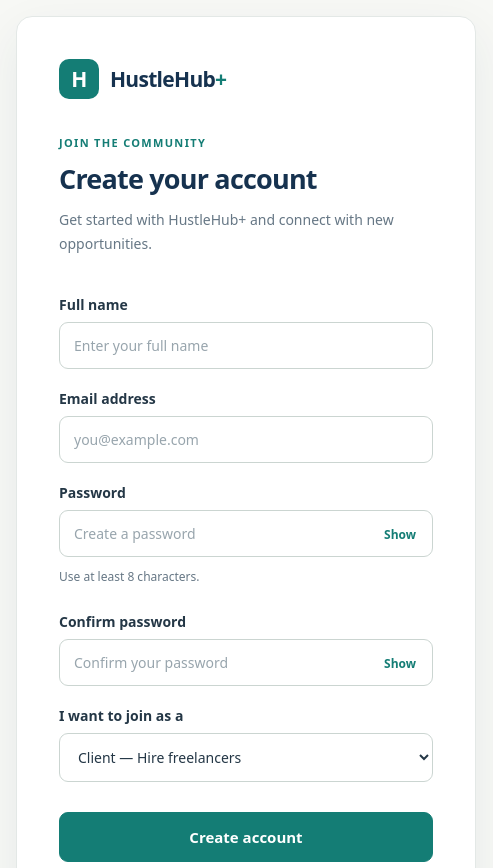
Scenario: RegisterPage › shows the message from the server when registration fails
Type "  Freya Alpha " into the field labelled "Full name" at (246, 346), box [59, 322, 433, 369]
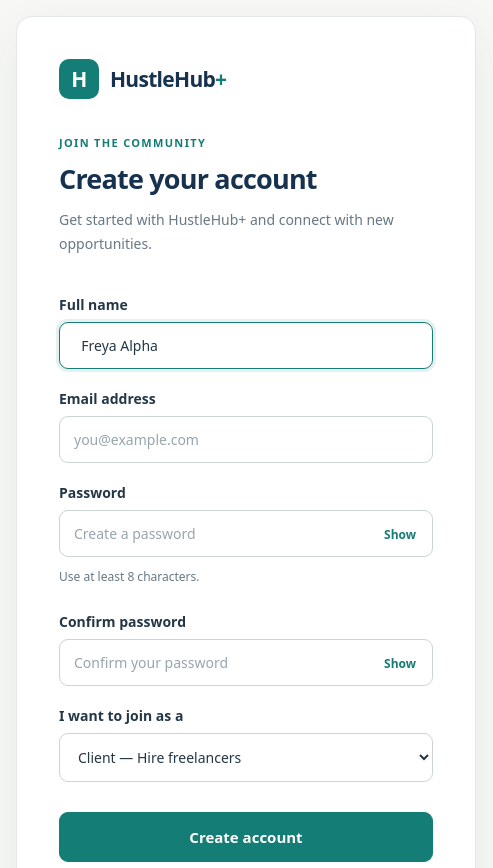
Type "freya@example.com" into the field labelled "Email address" at (246, 440), box [59, 416, 433, 463]
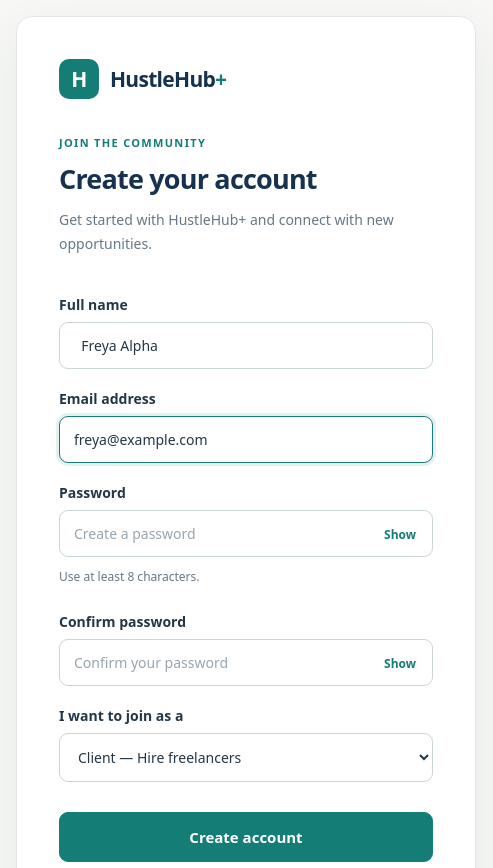
Type "Hustle#2026pass" into the password field labelled "Password" at (246, 534), box [59, 510, 433, 557]
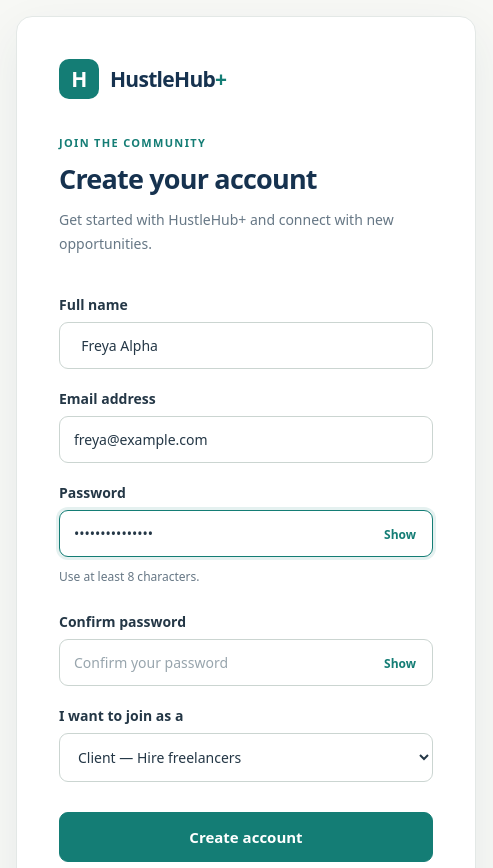
Type "Hustle#2026pass" into the password field labelled "Confirm password" at (246, 663), box [59, 639, 433, 686]
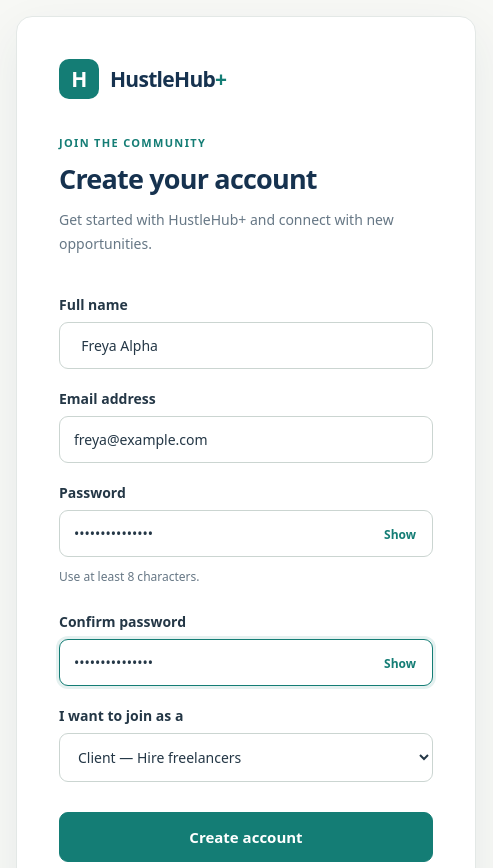
Click the button "Create account" at (246, 837), box [59, 812, 433, 862]
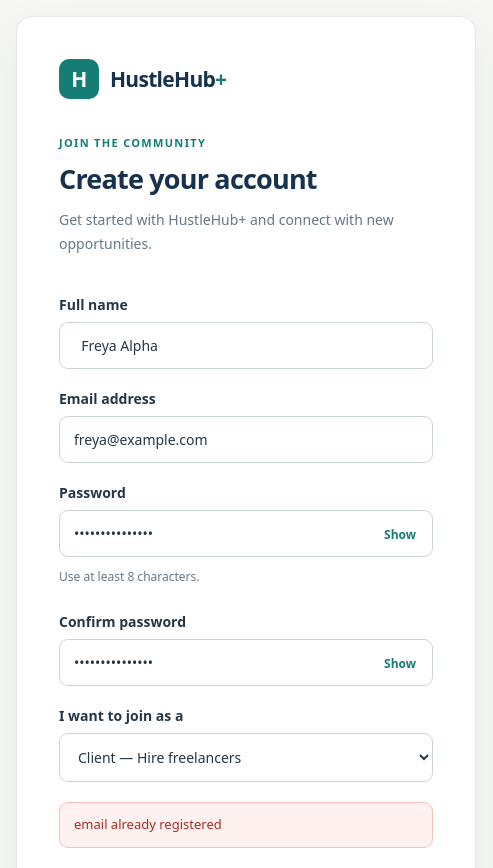
Check: the message reads "email already registered", box [74, 815, 222, 833]
